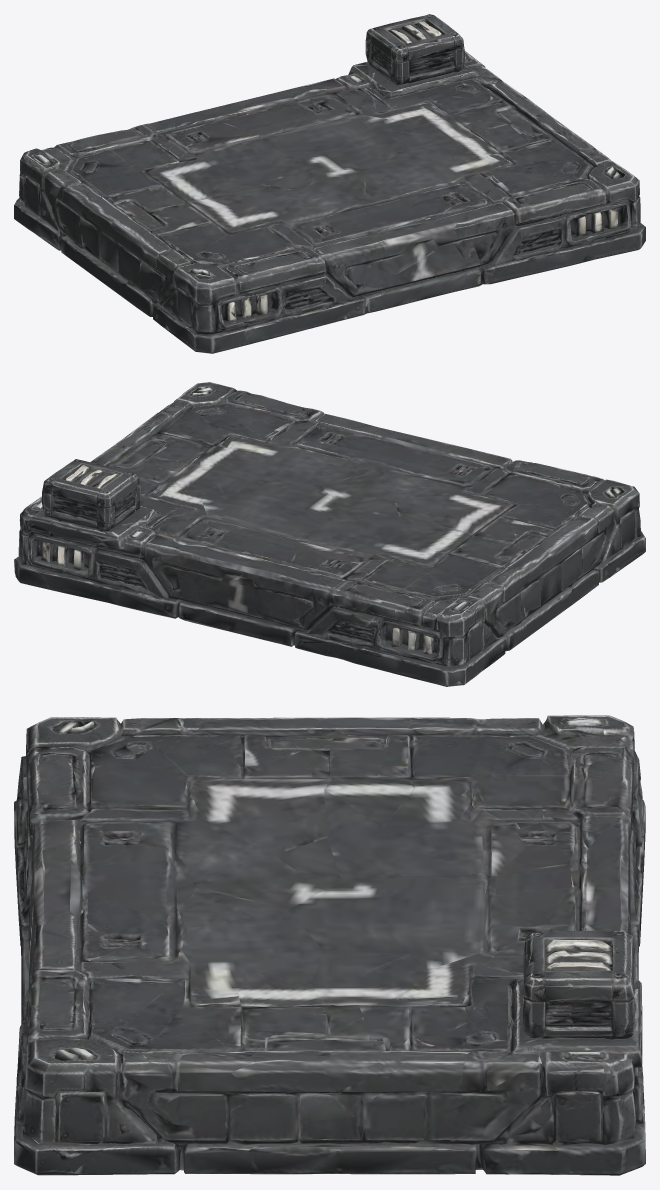
Rendered from landing-platform-metal.glb.
3 views of the same model, one above another, from view 1: azimuth 30°, elevation 25°; view 2: azimuth 150°, elevation 25°; view 3: azimuth 270°, elevation 25° (orthographic). The views are drawn at different scales.
Size of the model in its own units: 1.9 by 0.4273 by 1.41.
1 material, 1 textured.
